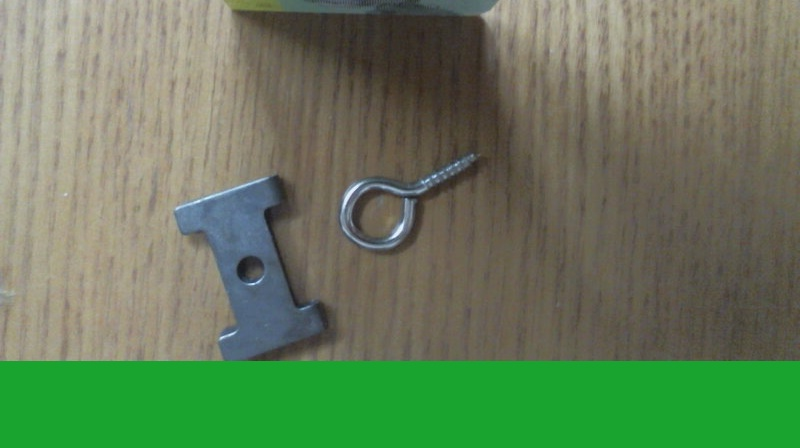O001: (334, 148, 482, 252)
O002: (169, 170, 328, 359)
